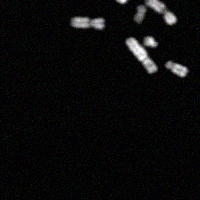chromosome: (125, 37, 157, 75), (145, 0, 177, 25), (71, 17, 104, 29), (165, 60, 187, 77), (134, 5, 145, 22), (144, 37, 158, 47), (114, 0, 131, 4)
